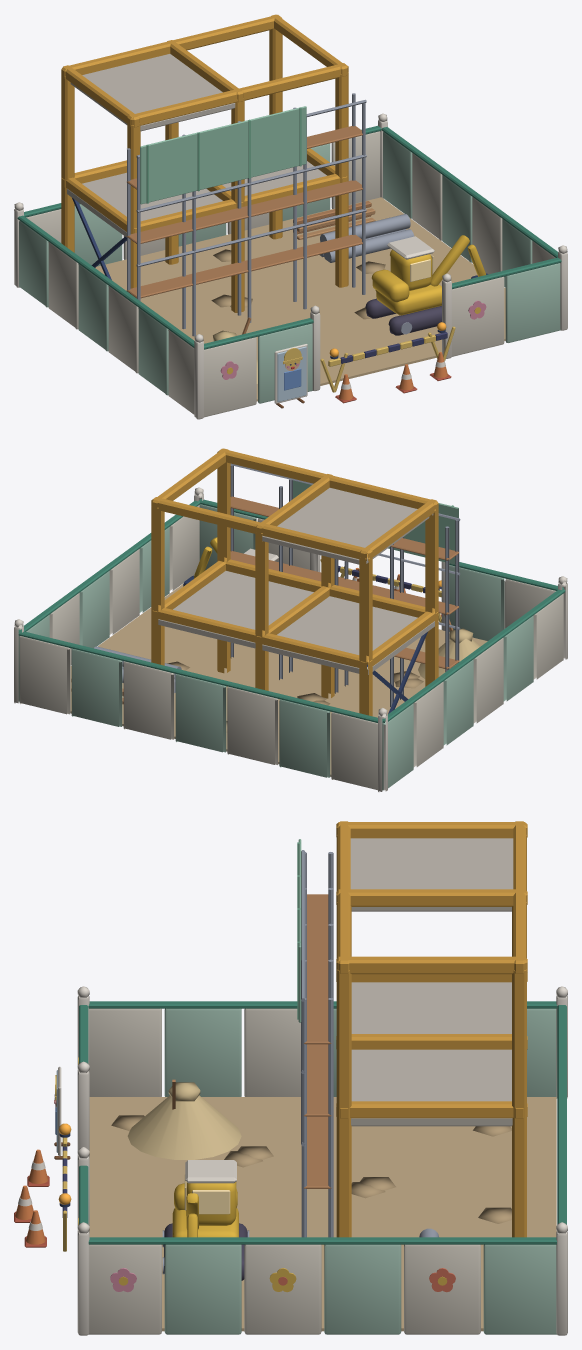
File: ac_construction_r0.glb
3 renders of one model, top to bottom at view 1: azimuth 30°, elevation 25°; view 2: azimuth 150°, elevation 25°; view 3: azimuth 270°, elevation 25°, orthographic. The views are drawn at different scales.
Parts seen in each view (by area): view 1: box; view 2: box; view 3: box.
Boxes of the visible parts, <box> form: box: <box>14,14,567,419</box>; box: <box>14,448,567,791</box>; box: <box>14,821,567,1335</box>.
Size of the model in its own units: 10.73 by 6.15 by 10.42.
